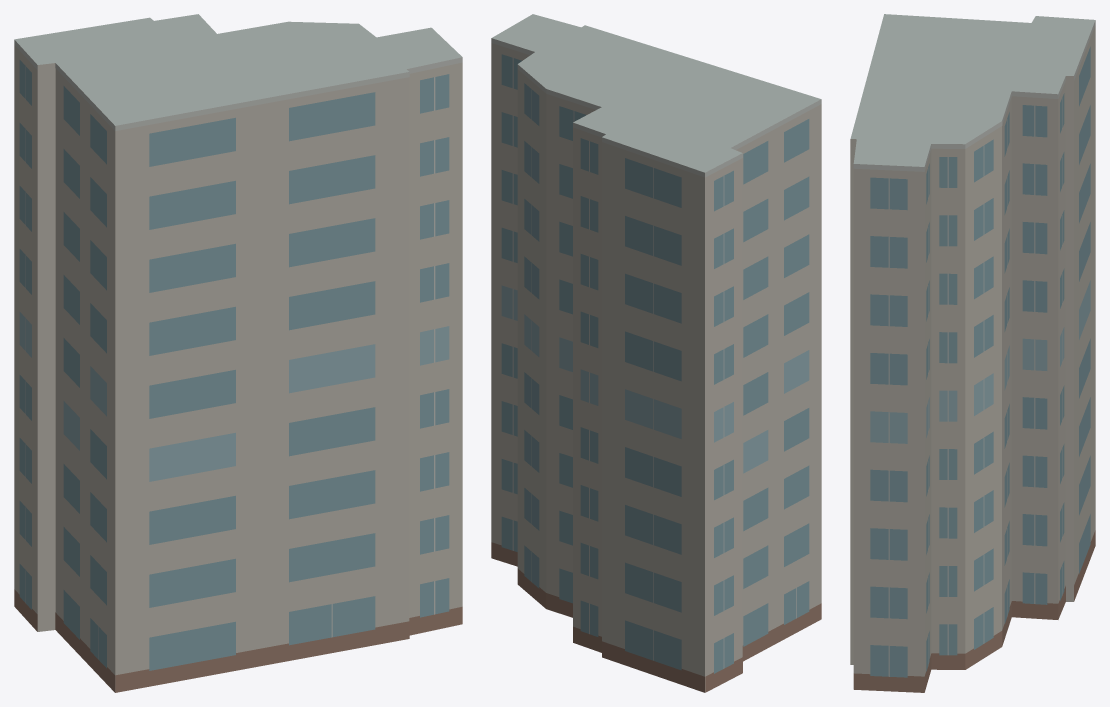
File: survey-upis-33016116.glb
3 renders of one model, left to right at view 1: azimuth 30°, elevation 25°; view 2: azimuth 150°, elevation 25°; view 3: azimuth 270°, elevation 25°, orthographic. The views are drawn at different scales.
Visible parts, largest first — view 1: survey-upis-33016116.tmp; view 2: survey-upis-33016116.tmp; view 3: survey-upis-33016116.tmp.
Part boxes in pixels (x1=…): survey-upis-33016116.tmp: x1=14, y1=14, x2=462, y2=692; survey-upis-33016116.tmp: x1=491, y1=14, x2=821, y2=692; survey-upis-33016116.tmp: x1=850, y1=14, x2=1095, y2=692.
Size of the model in its own units: 16.36 by 26.2 by 11.08.
